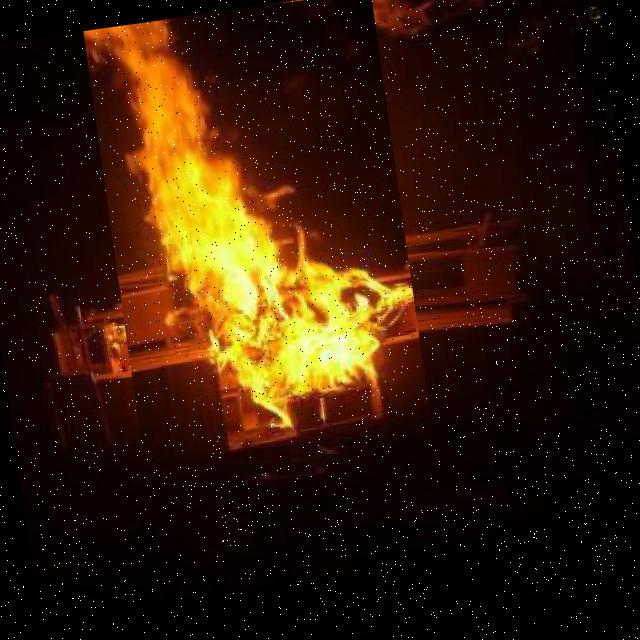fire: (83, 0, 431, 465)
